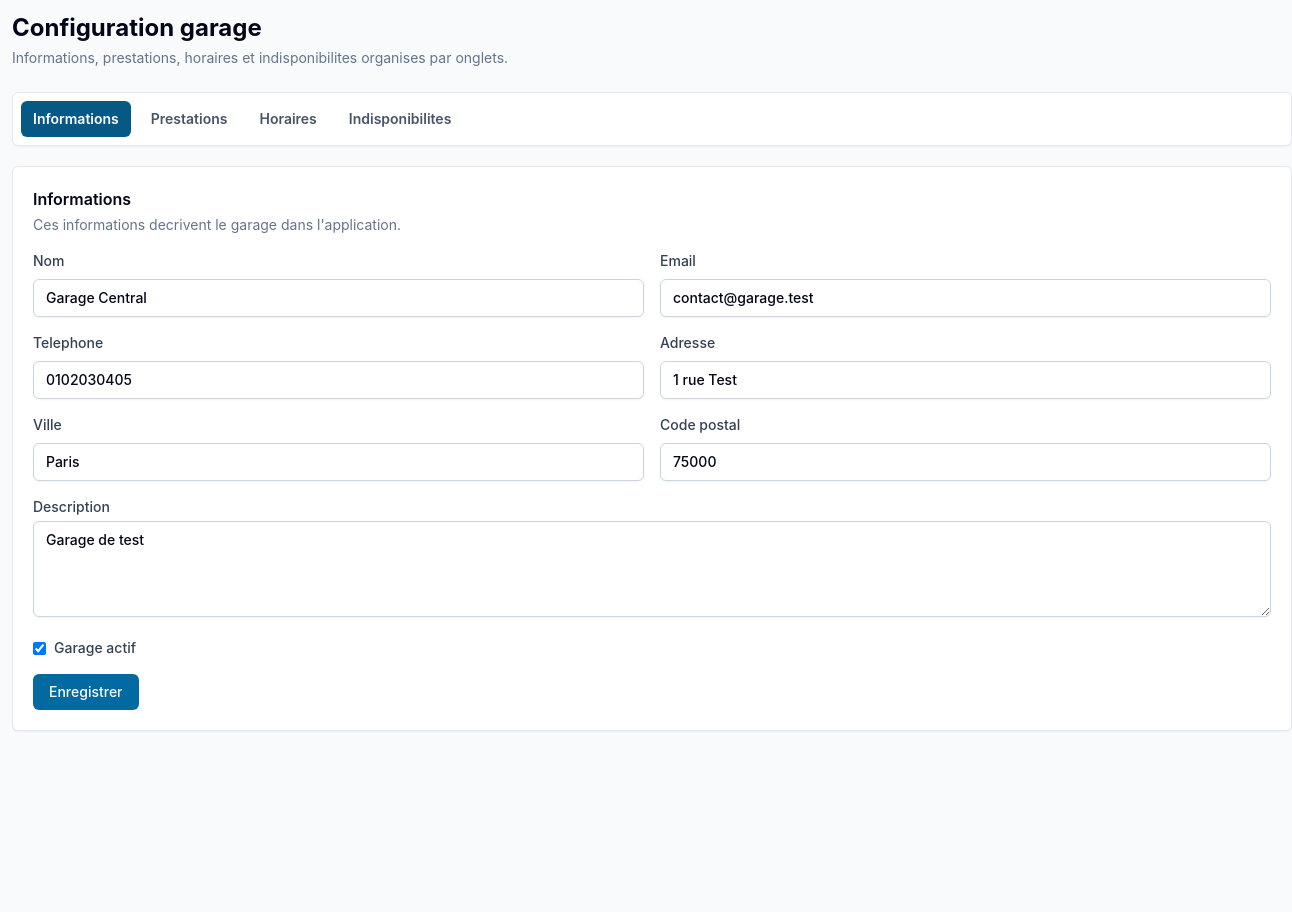
Test: GarageSettingsPage › refuse la creation indisponibilite si dateDebut est apres dateFin
Click the tab "Indisponibilites". click: (400, 119)
box: x1=337 y1=101 x2=463 y2=137
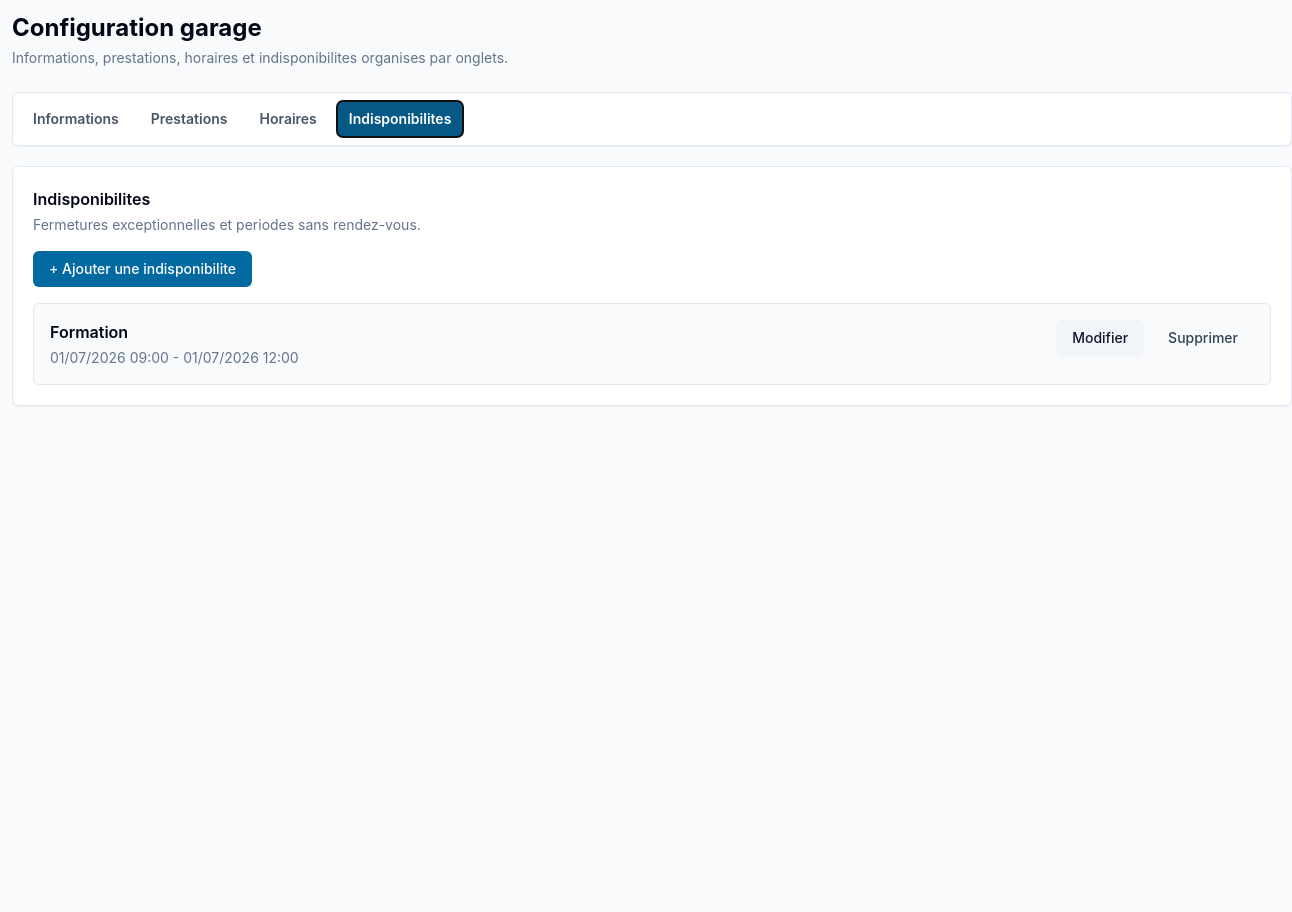
Click the button "+ Ajouter une indisponibilite". click: (142, 269)
box: x1=33 y1=251 x2=252 y2=287
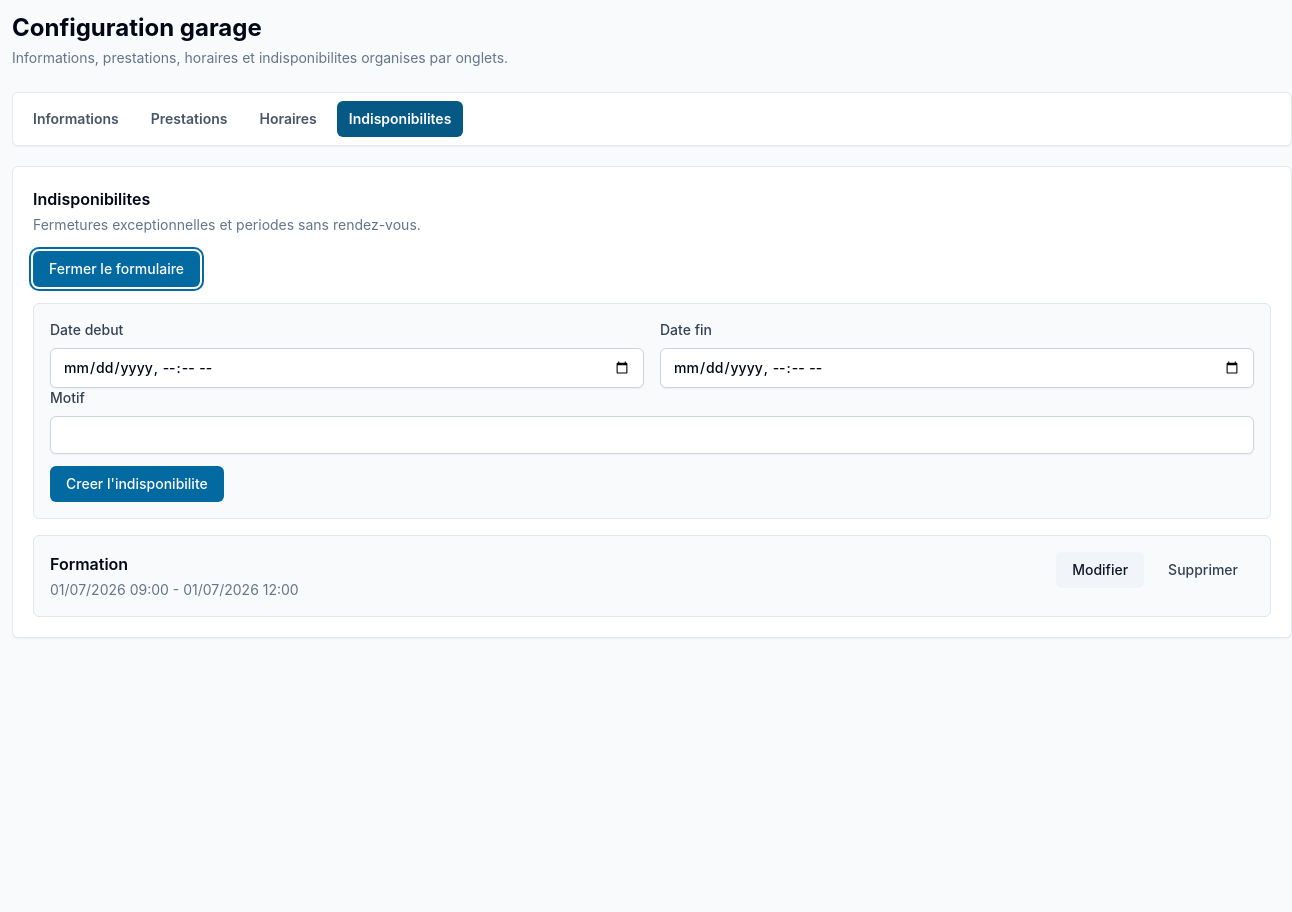
Type "2026-07-02T10:00" into the field labelled "Date debut". click: (347, 368)
box: x1=50 y1=348 x2=644 y2=388
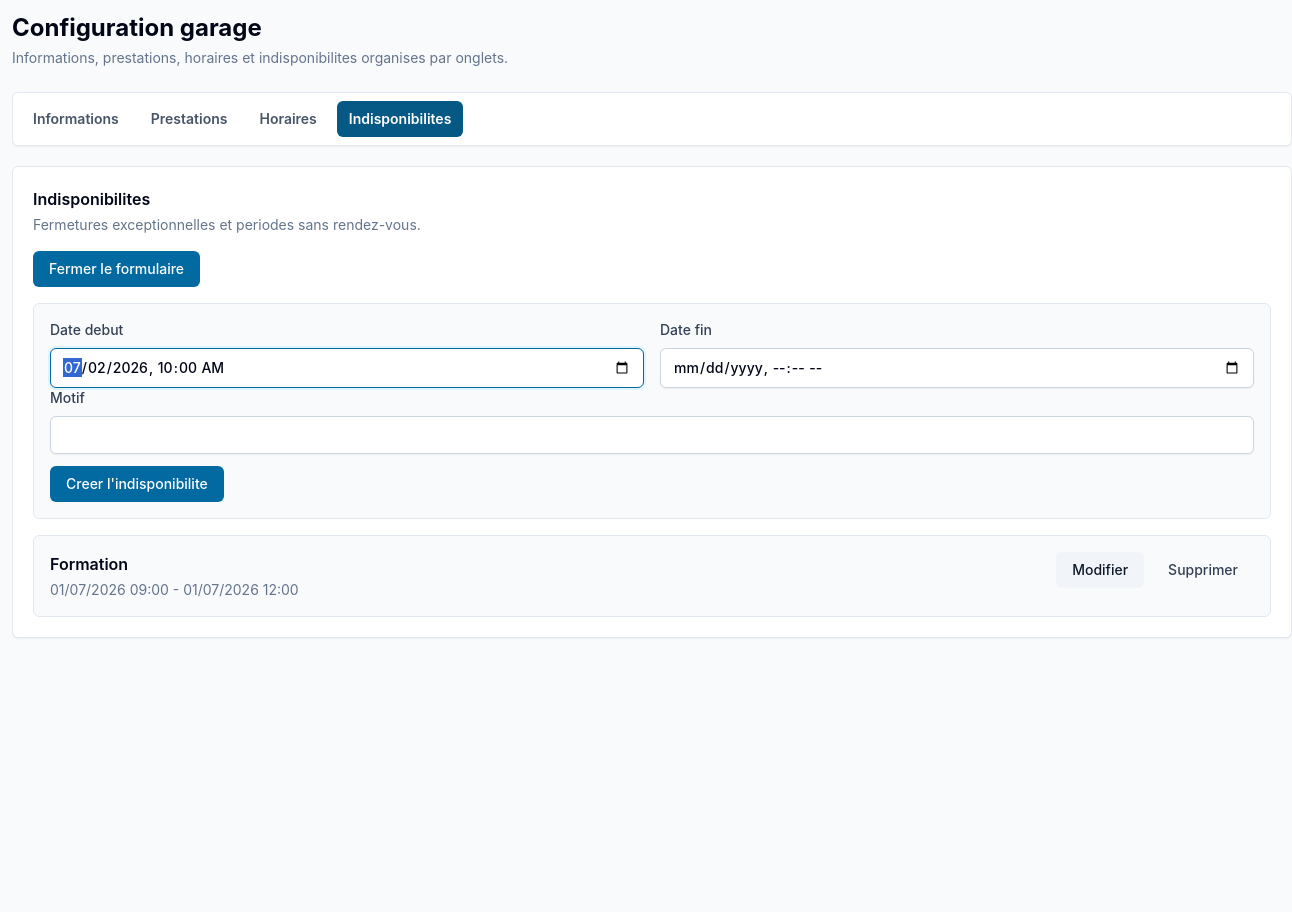
Type "2026-07-01T10:00" into the field labelled "Date fin". click: (957, 368)
box: x1=660 y1=348 x2=1254 y2=388
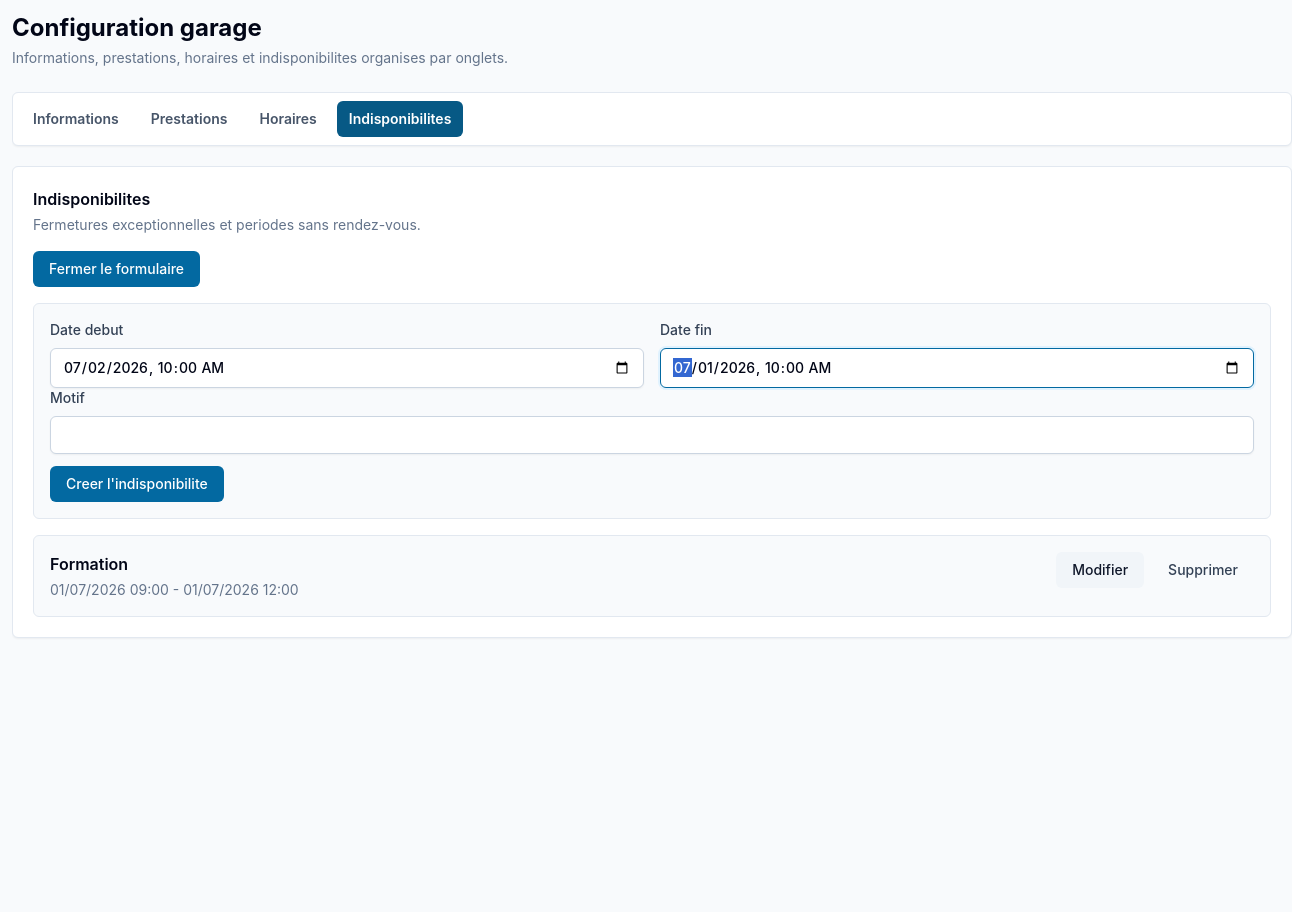
Click the button "Creer l'indisponibilite". click: (137, 484)
box: x1=50 y1=466 x2=224 y2=502
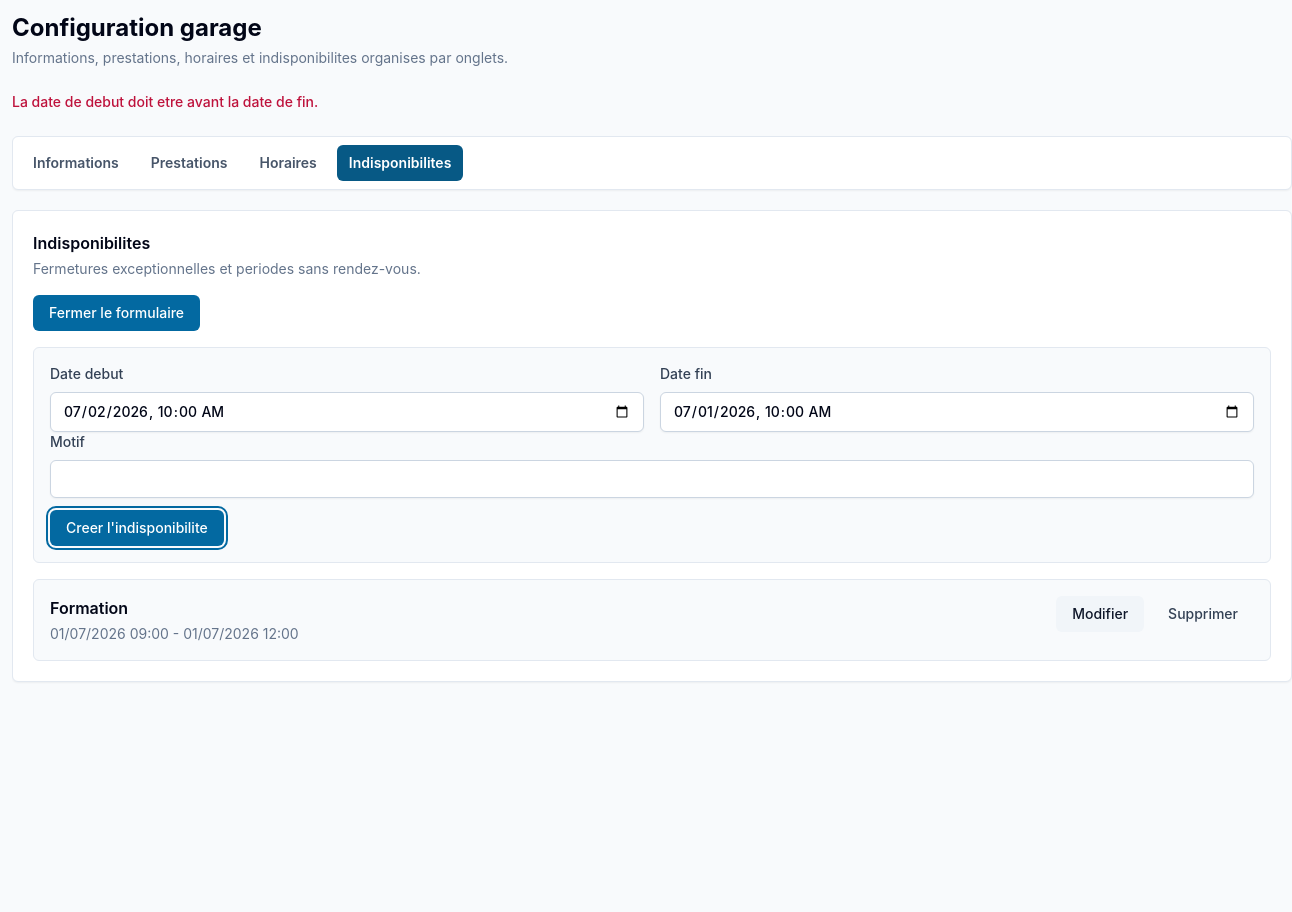
expect the text "La date de debut doit etre avant la date de fin." is shown: met, box x1=12 y1=93 x2=318 y2=110
